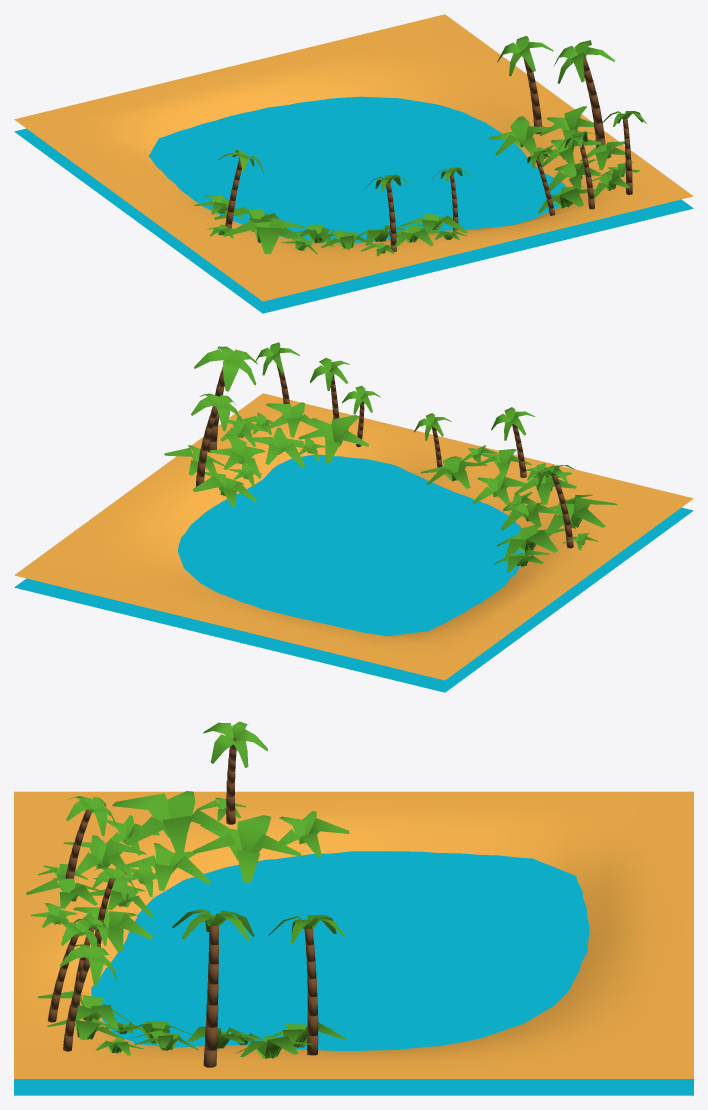
File: oasis1.fbx
3 renders of one model, top to bottom at view 1: azimuth 30°, elevation 25°; view 2: azimuth 150°, elevation 25°; view 3: azimuth 270°, elevation 25°, orthographic. The views are drawn at different scales.
Visible parts, largest first — view 1: oasis1.001; view 2: oasis1.001; view 3: oasis1.001.
Boxes of the visible parts, x1,y1,x2,y2 form: oasis1.001: (14, 14, 693, 313); oasis1.001: (14, 342, 693, 692); oasis1.001: (14, 721, 693, 1095).
Size of the model in its own units: 2 by 0.7302 by 2.
